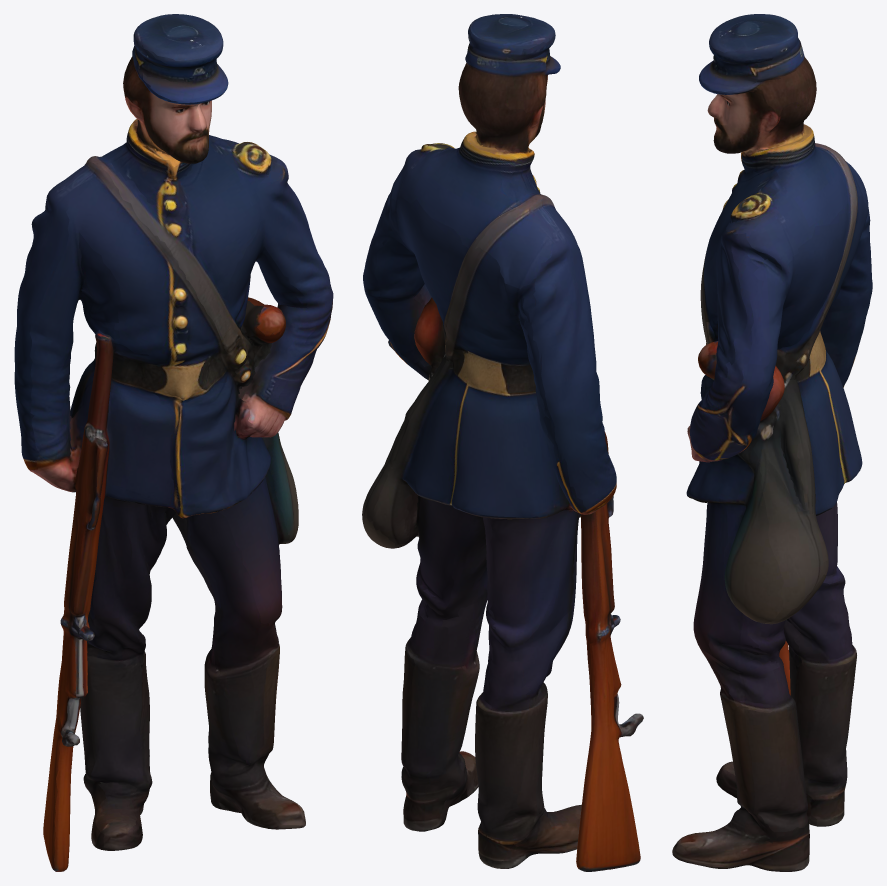
The model's file is UnionSoldier-lf4X0XpI.glb.
3 renders of one model, left to right at view 1: azimuth 30°, elevation 25°; view 2: azimuth 150°, elevation 25°; view 3: azimuth 270°, elevation 25°, orthographic.
Parts seen in each view (by area): view 1: textured_mesh.obj; view 2: textured_mesh.obj; view 3: textured_mesh.obj.
Part boxes in pixels (bbox=[...]): textured_mesh.obj: bbox=[14, 14, 333, 871]; textured_mesh.obj: bbox=[362, 14, 643, 871]; textured_mesh.obj: bbox=[672, 14, 872, 871].
Size of the model in its own units: 0.7077 by 1.99 by 0.4477.
1 material, 1 textured.
